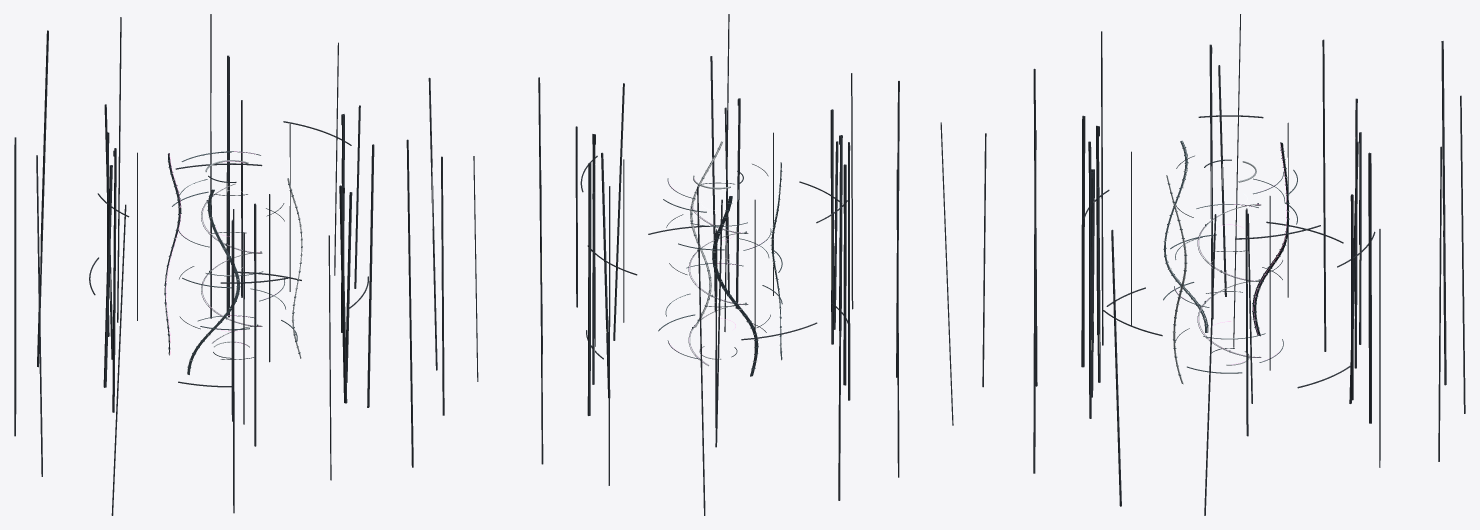
The model's file is mechanical-memory-environment.glb.
3 views of the same model, side by side, from view 1: azimuth 30°, elevation 25°; view 2: azimuth 150°, elevation 25°; view 3: azimuth 270°, elevation 25° (orthographic). The views are drawn at different scales.
Parts seen in each view (by area): view 1: FAR_PYLON, FAR_DECK, BACKBONE_B; view 2: FAR_PYLON, FAR_DECK, BACKBONE_A; view 3: FAR_PYLON, FAR_DECK, BACKBONE_A, BACKBONE_B.
Boxes of the visible parts, x1,y1,x2,y2 form: FAR_PYLON: [14, 14, 444, 515]; FAR_DECK: [89, 121, 368, 387]; BACKBONE_B: [187, 189, 239, 374]; FAR_PYLON: [473, 14, 953, 515]; FAR_DECK: [580, 155, 847, 359]; BACKBONE_A: [712, 196, 758, 376]; FAR_PYLON: [982, 14, 1465, 515]; FAR_DECK: [1083, 115, 1375, 388]; BACKBONE_A: [1252, 142, 1288, 336]; BACKBONE_B: [1164, 140, 1208, 332].
Size of the model in its own units: 90.89 by 78.4 by 95.33.
